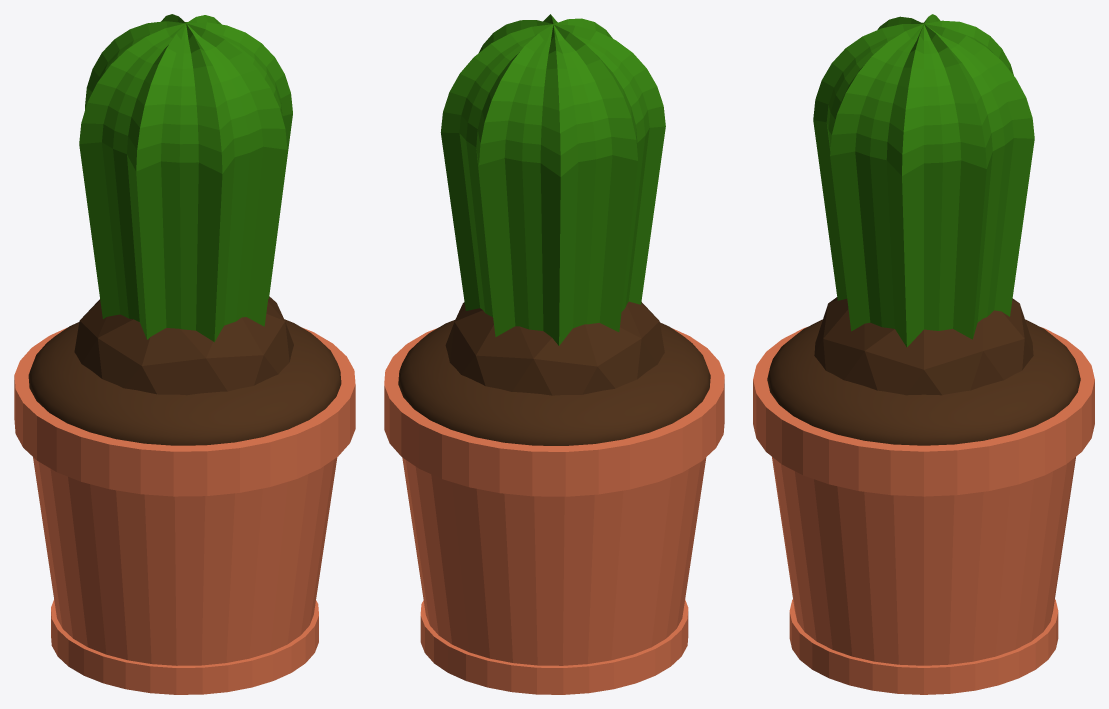
Rendered from Cactus5.fbx.
3 renders of one model, left to right at view 1: azimuth 30°, elevation 25°; view 2: azimuth 150°, elevation 25°; view 3: azimuth 270°, elevation 25°, orthographic.
Visible parts, largest first — view 1: Vase.004, Sphere.012, Sphere.013, Icosphere.004; view 2: Vase.004, Sphere.012, Sphere.013, Icosphere.004; view 3: Vase.004, Sphere.012, Sphere.013, Icosphere.004.
Boxes of the visible parts, x1=… form: Vase.004: x1=14, y1=327, x2=355, y2=694; Sphere.012: x1=79, y1=14, x2=292, y2=342; Sphere.013: x1=28, y1=319, x2=341, y2=445; Icosphere.004: x1=74, y1=296, x2=293, y2=395; Vase.004: x1=384, y1=328, x2=724, y2=694; Sphere.012: x1=440, y1=14, x2=665, y2=345; Sphere.013: x1=398, y1=320, x2=710, y2=445; Icosphere.004: x1=445, y1=301, x2=664, y2=395; Vase.004: x1=753, y1=327, x2=1094, y2=694; Sphere.012: x1=813, y1=14, x2=1034, y2=347; Sphere.013: x1=767, y1=319, x2=1080, y2=445; Icosphere.004: x1=814, y1=297, x2=1033, y2=395.
Bounding box in the file's own units: 218 × 432 × 218.
